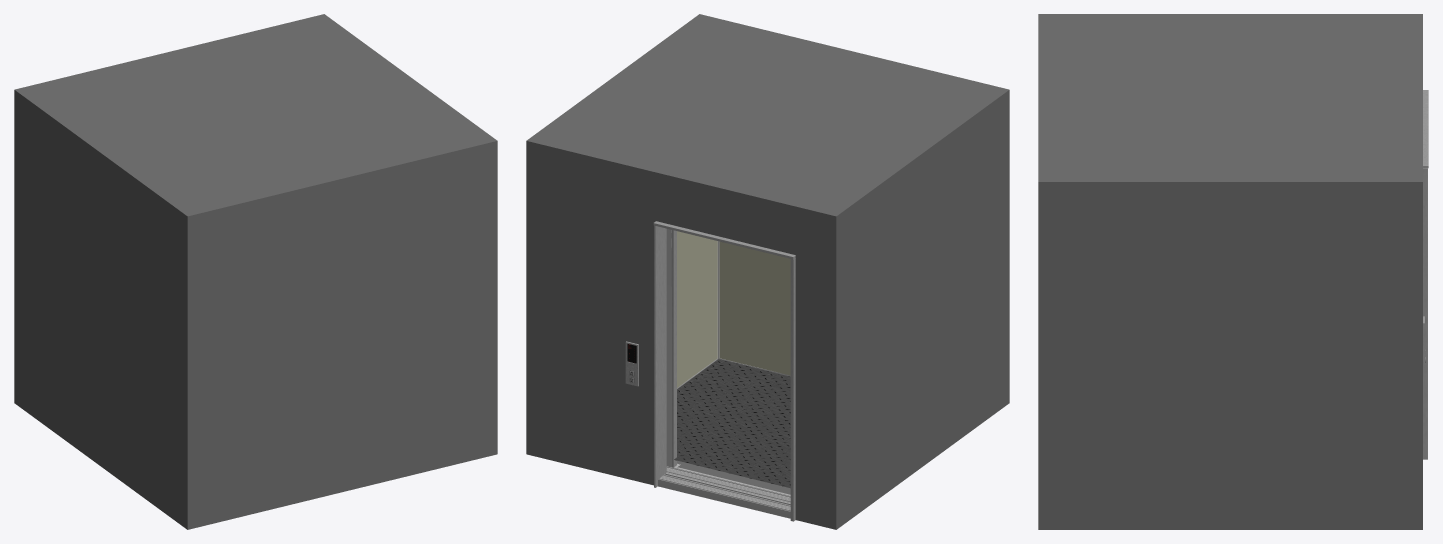
3 renders of one model, left to right at view 1: azimuth 30°, elevation 25°; view 2: azimuth 150°, elevation 25°; view 3: azimuth 270°, elevation 25°, orthographic. The views are drawn at different scales.
Parts seen in each view (by area): view 1: elevator_Shaft; view 2: elevator_Shaft, elevator_car_part_7, elevator_car_wall_par_2, elevator_car_wall_par_3, floor_door_frame_part_1, floor_door_track_platform, elevator_car_part_9, elevator_door_frame, elevator_door_track_platform; view 3: elevator_Shaft, floor_door_frame_part_1.
Part boxes in pixels (bbox=[...]): elevator_Shaft: bbox=[14, 14, 497, 529]; elevator_Shaft: bbox=[526, 14, 1009, 529]; elevator_car_part_7: bbox=[674, 359, 790, 488]; elevator_car_wall_par_2: bbox=[719, 241, 790, 375]; elevator_car_wall_par_3: bbox=[677, 231, 717, 387]; floor_door_frame_part_1: bbox=[653, 221, 795, 521]; floor_door_track_platform: bbox=[658, 474, 790, 518]; elevator_car_part_9: bbox=[666, 228, 671, 467]; elevator_door_frame: bbox=[671, 230, 676, 467]; elevator_door_track_platform: bbox=[665, 466, 790, 505]; elevator_Shaft: bbox=[1038, 14, 1422, 529]; floor_door_frame_part_1: bbox=[1423, 90, 1428, 459].
Bounding box in the file's own units: 2.35 × 2.27 × 2.3.
47 materials, 14 textured.
